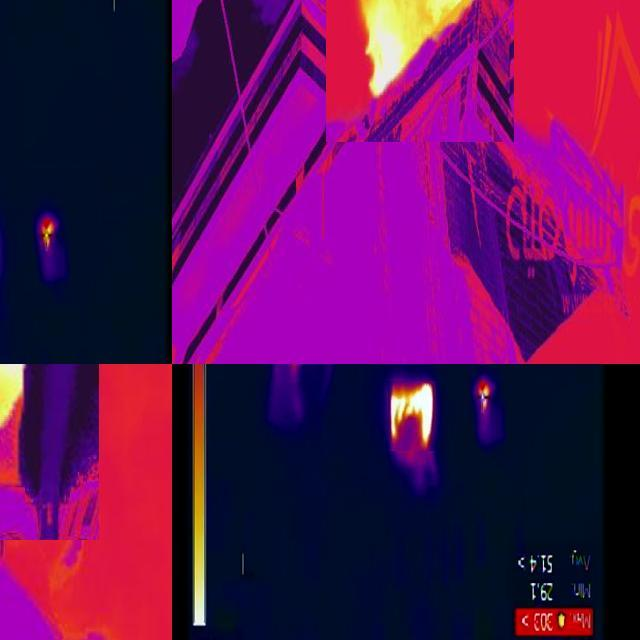fire: (356, 1, 486, 96), (388, 381, 436, 451), (1, 365, 33, 430), (38, 218, 58, 254), (475, 379, 492, 419)
